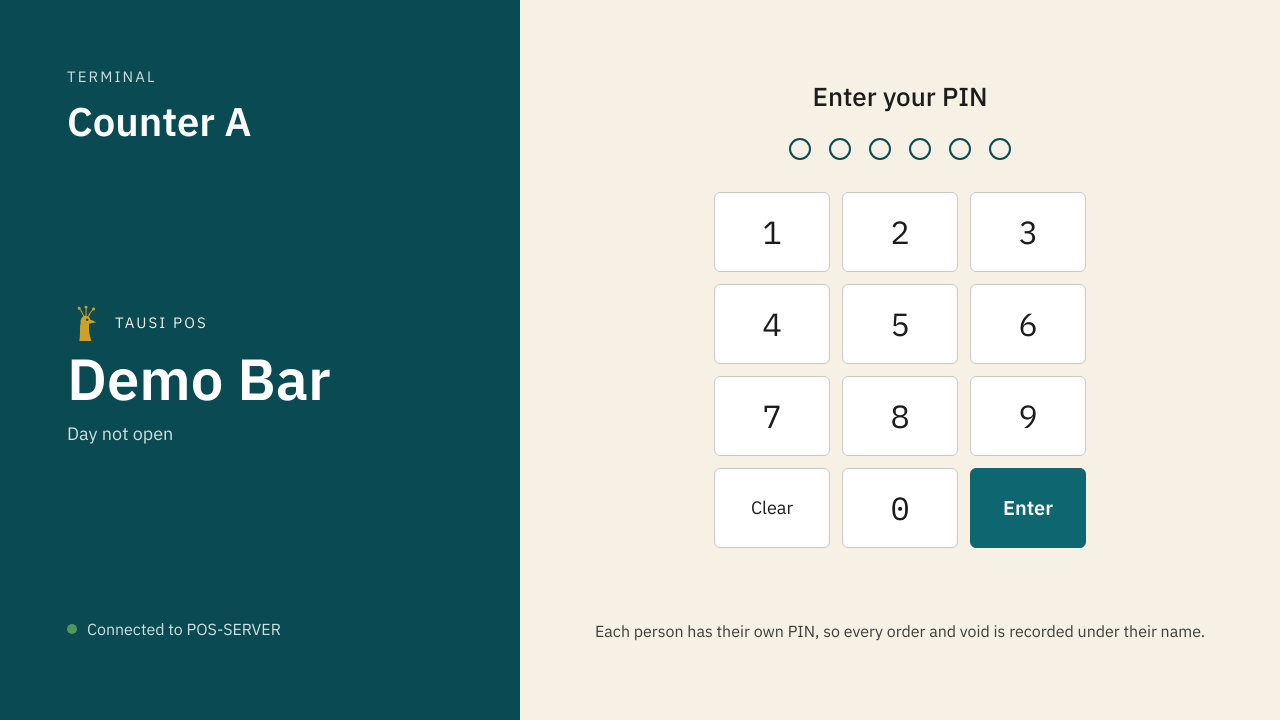
Scenario: PIN login screen › fills the dots from the keypad and the keyboard; Backspace and Escape work
The image size is (1280, 720).
Expected: the text "Counter A" is shown, [67, 95, 251, 147]
Expected: the list named "0 of 6 digits entered" is shown, [789, 138, 1011, 160]
Click the button "4". click: {"x": 772, "y": 324}
box: [714, 284, 830, 364]
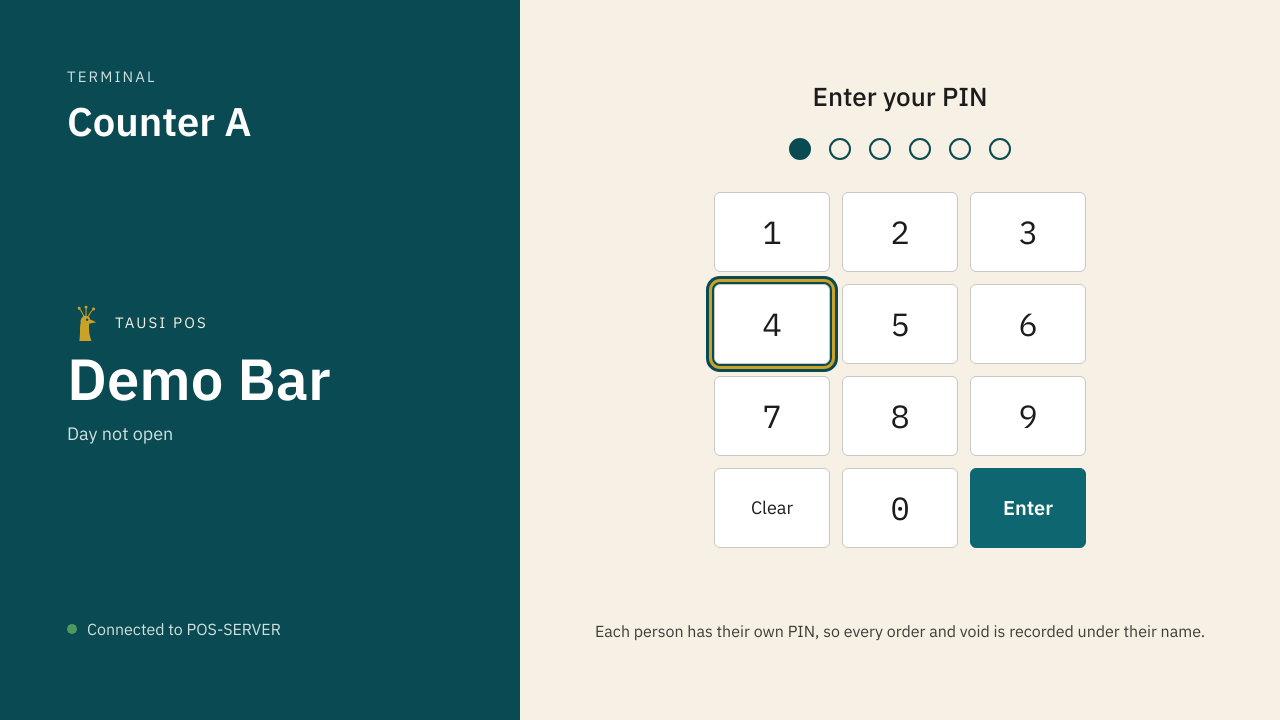
Click the button "8". click: {"x": 900, "y": 416}
box: [842, 376, 958, 456]
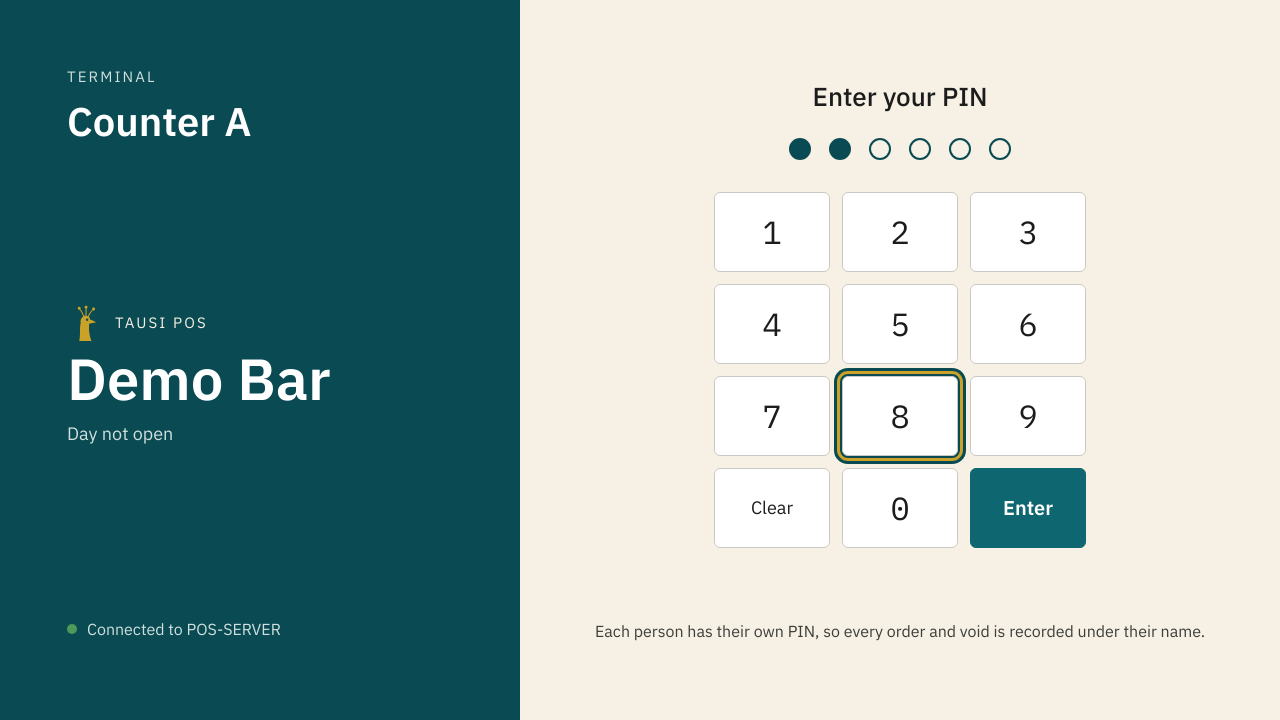
Type keys "21"
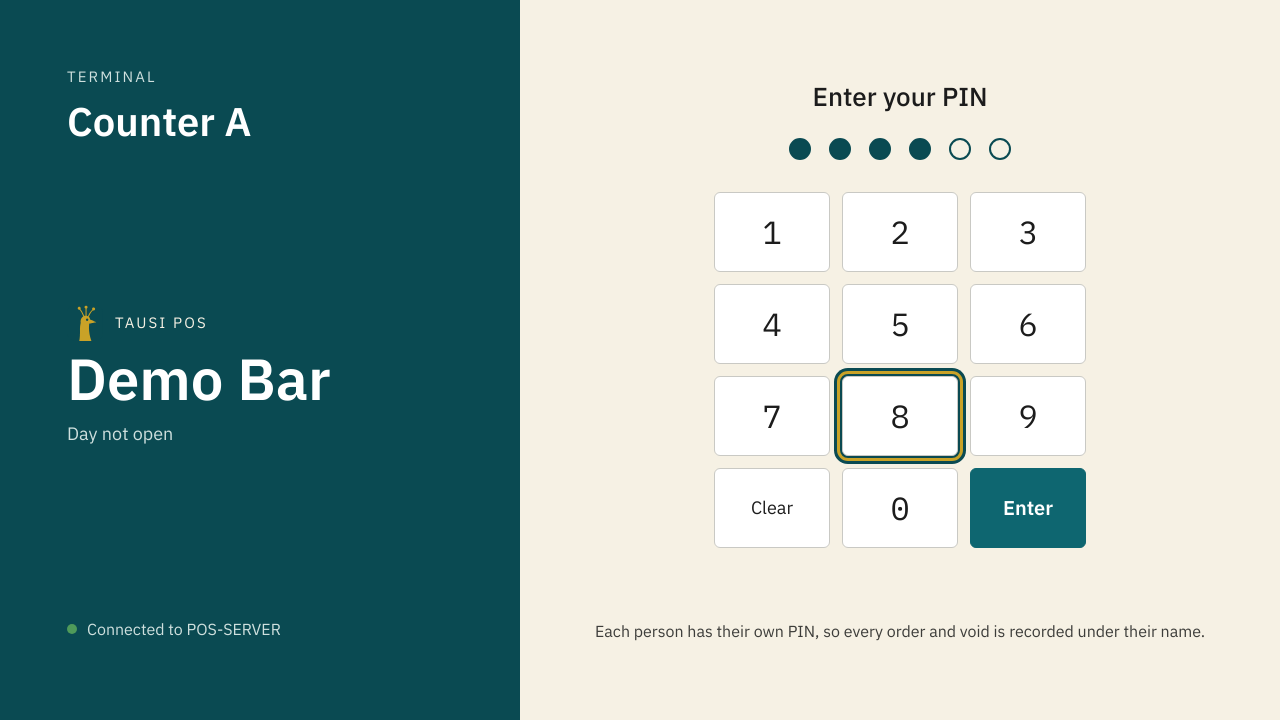
Press Backspace
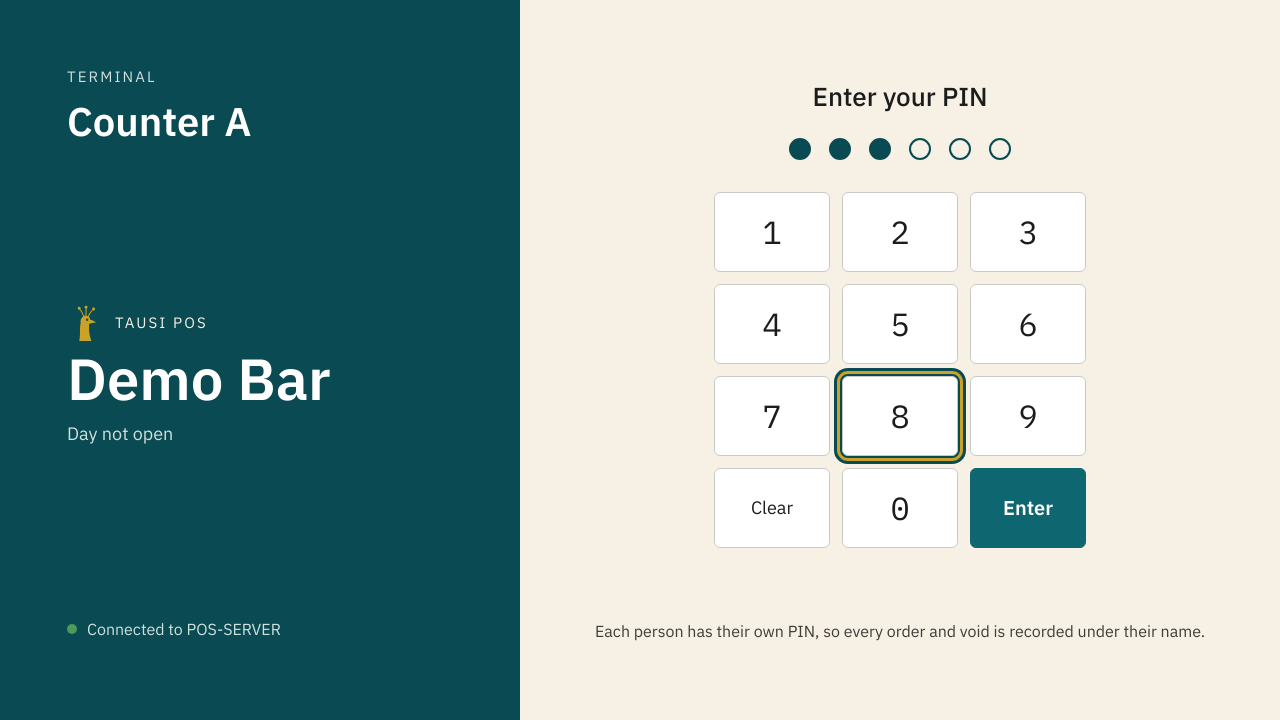
Press Escape
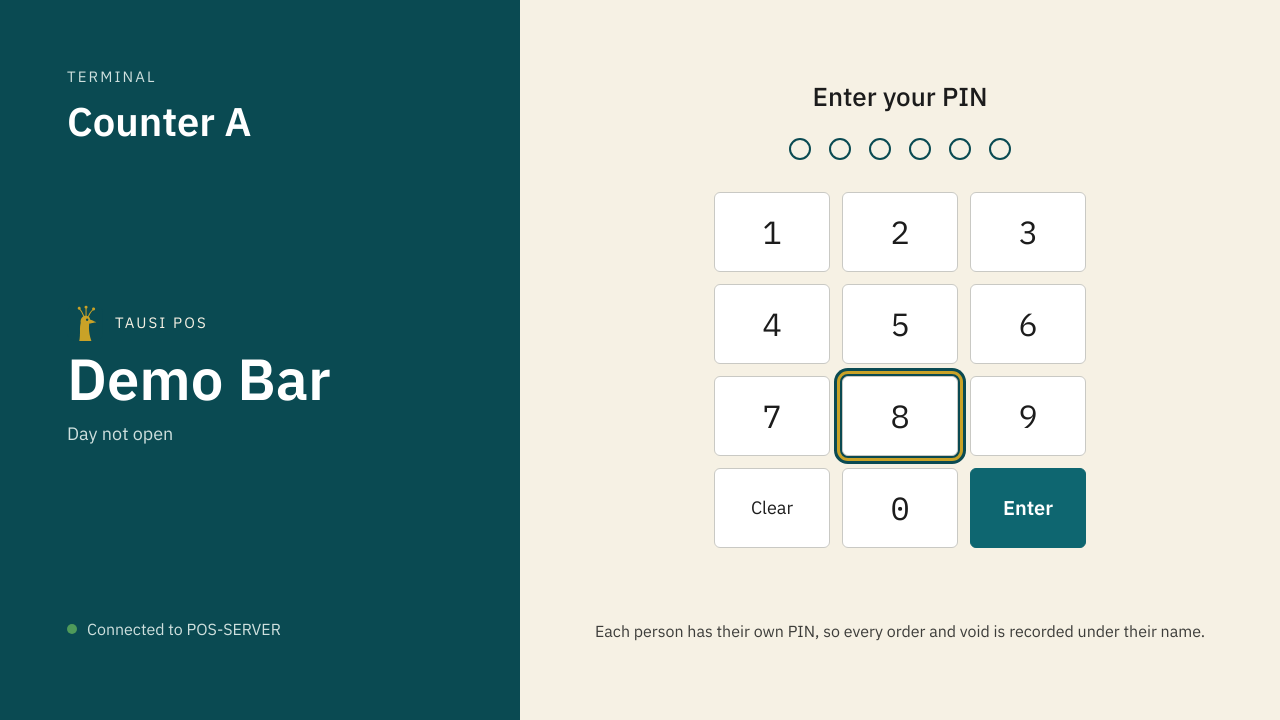
Now the list named "0 of 6 digits entered" is shown, box [789, 138, 1011, 160]
